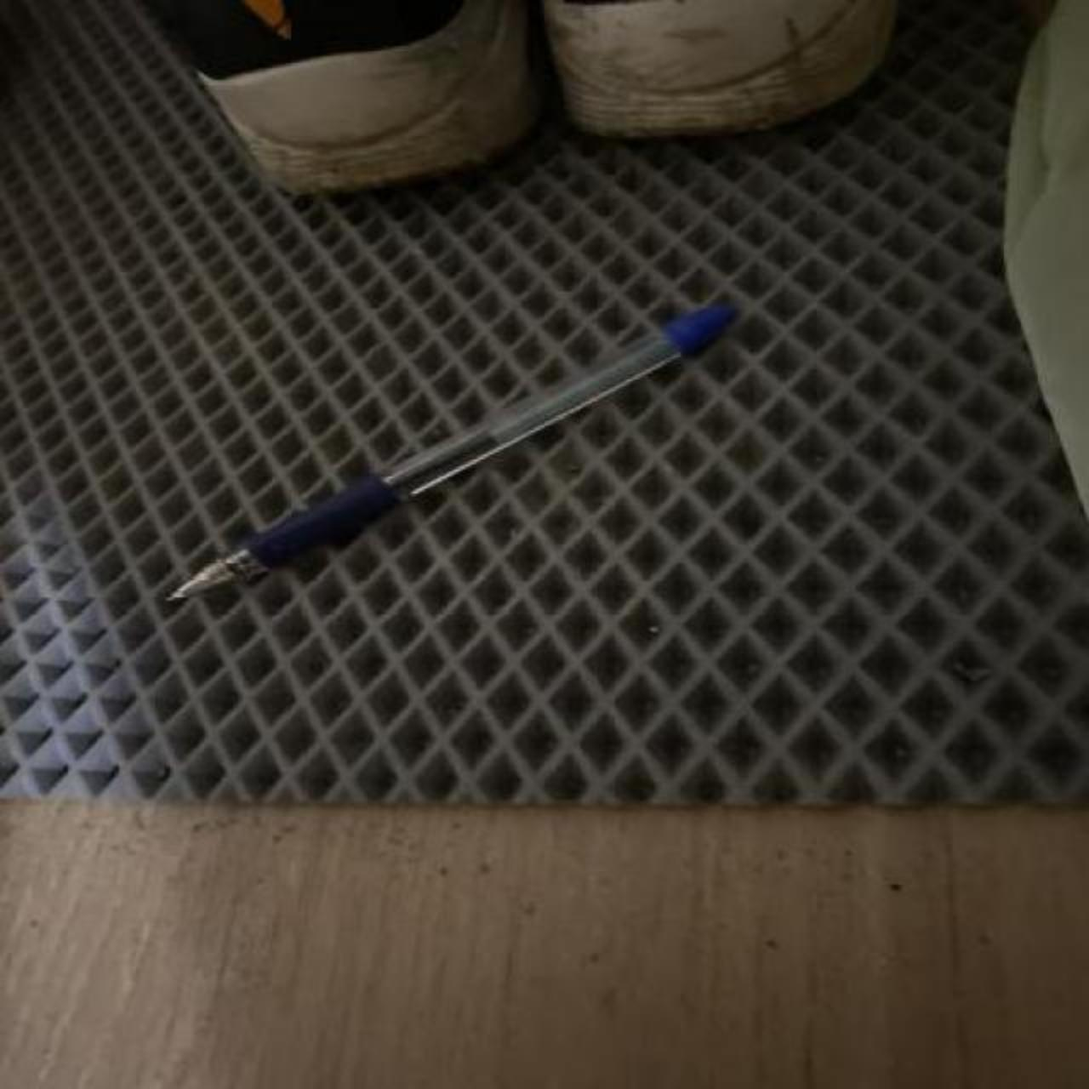pen: (162, 259, 825, 607)
